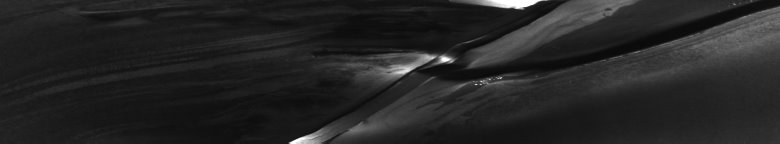ke: (305, 4, 776, 136)
